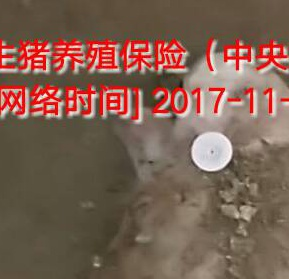text: (181, 122, 244, 183)
